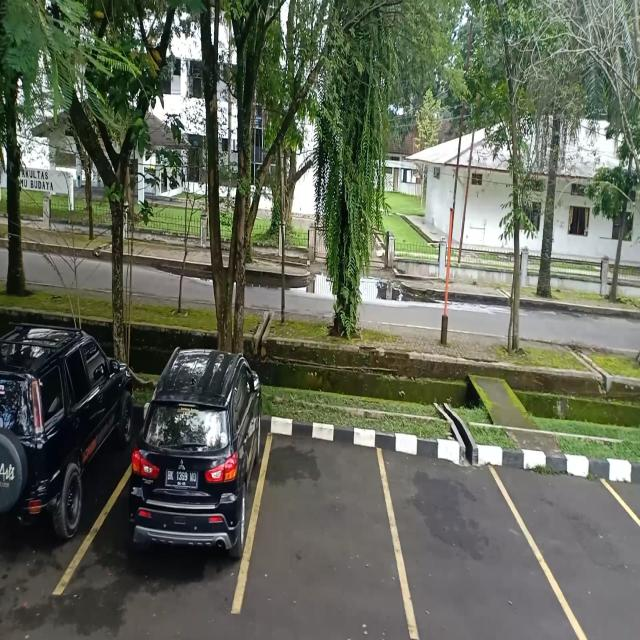empty: (253, 410, 392, 640), (387, 437, 532, 636), (532, 442, 640, 640)
occupied: (115, 389, 259, 606), (0, 353, 122, 592)
